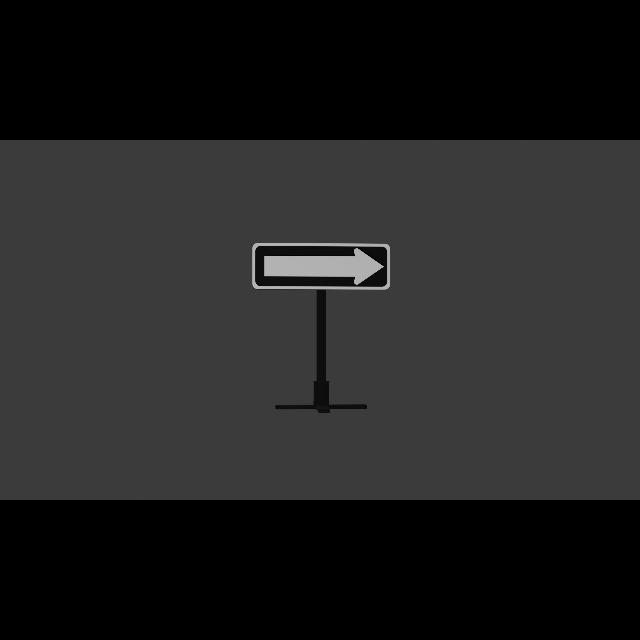sign_oneway_right: (254, 242, 391, 290)
